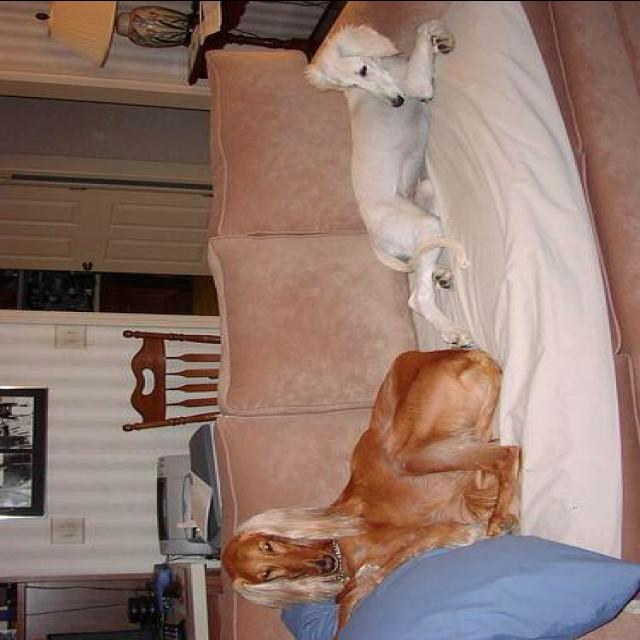saluki: (220, 343, 522, 640), (305, 18, 473, 351)
